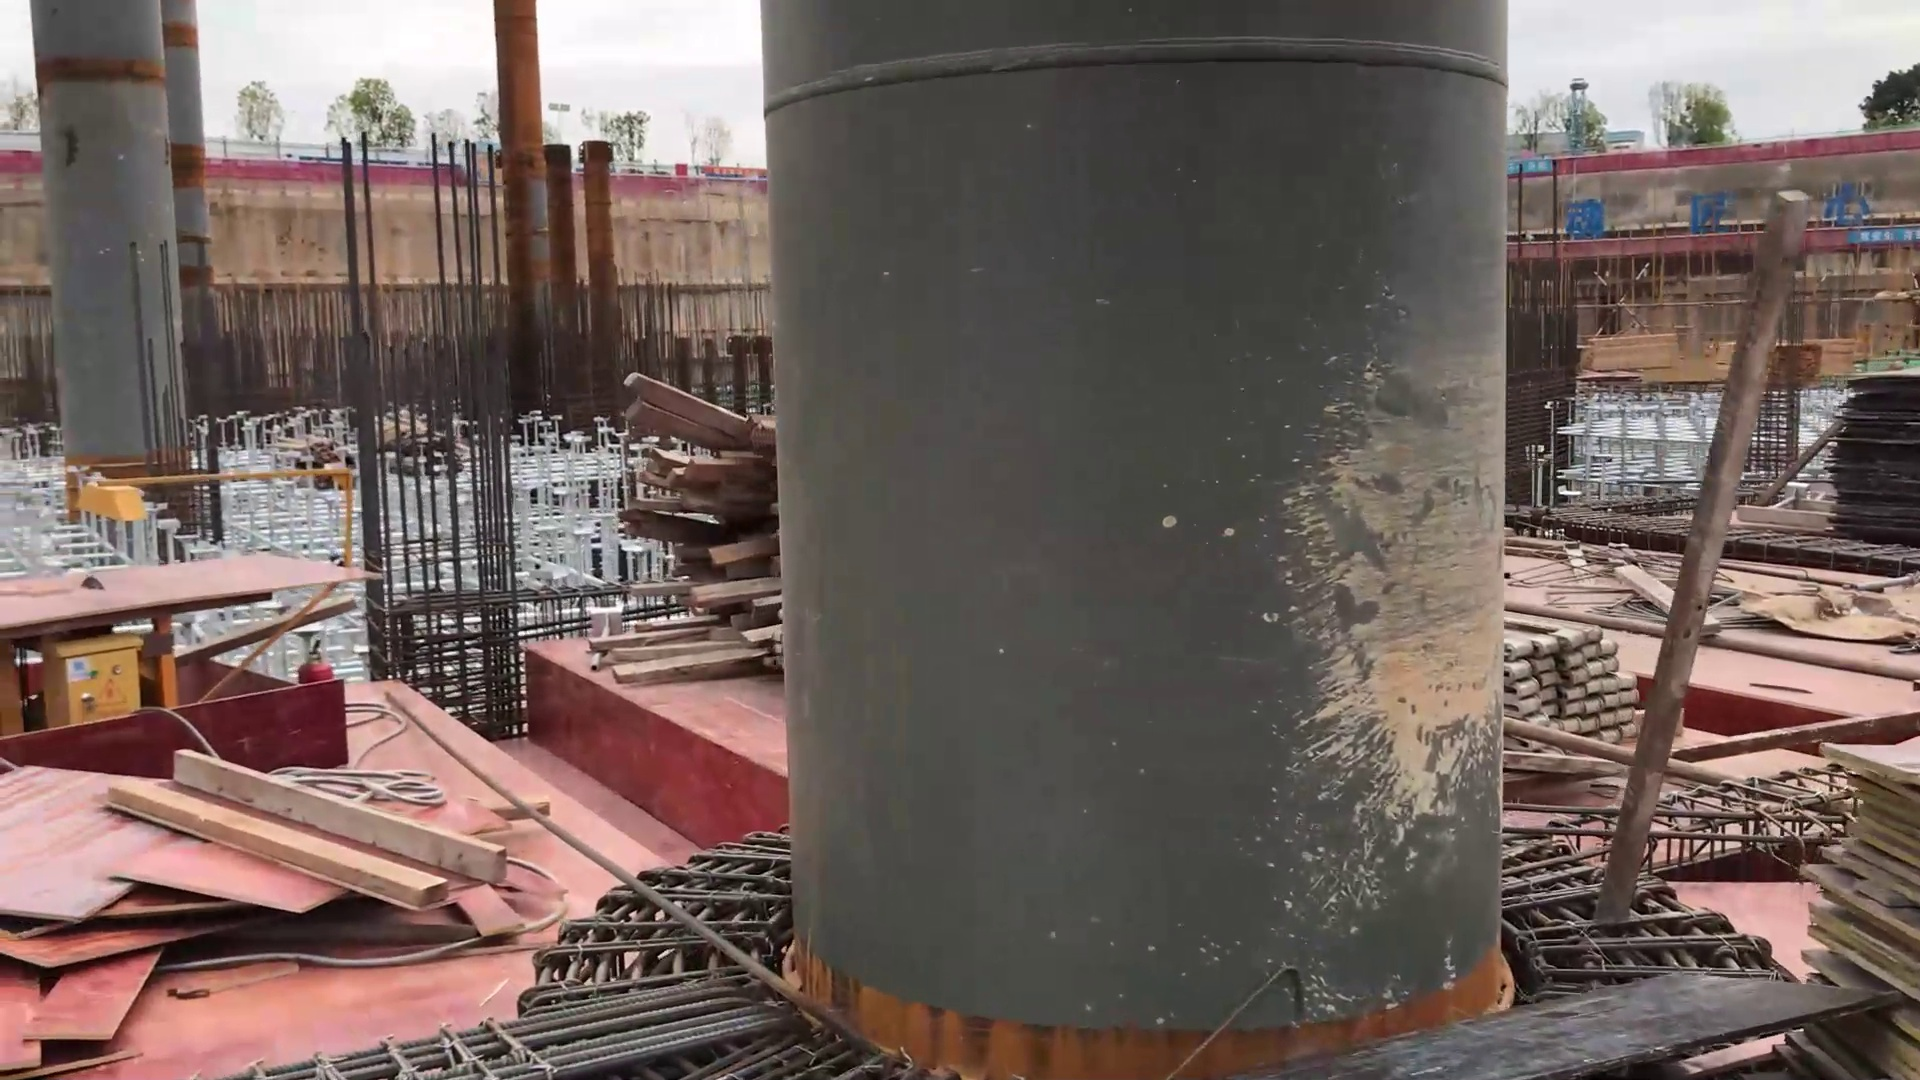board: (1822, 735, 1920, 899), (1829, 367, 1920, 522)
cutter: (1, 547, 381, 626)
ebox: (79, 632, 154, 717)
wood: (632, 356, 769, 688), (1519, 597, 1640, 771)
